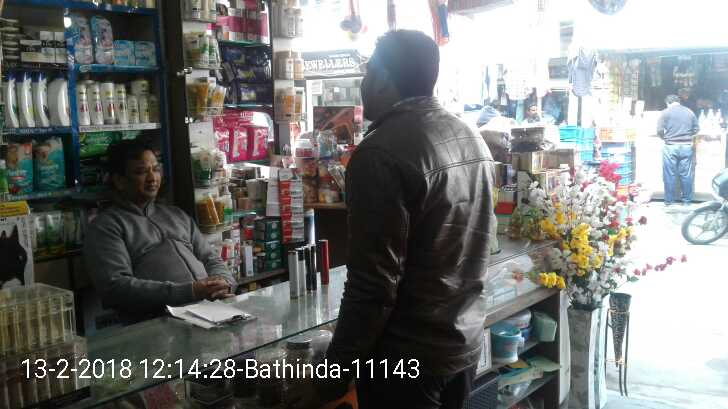venus: (76, 18, 96, 62), (96, 22, 110, 62), (135, 43, 158, 65), (116, 39, 135, 65)
